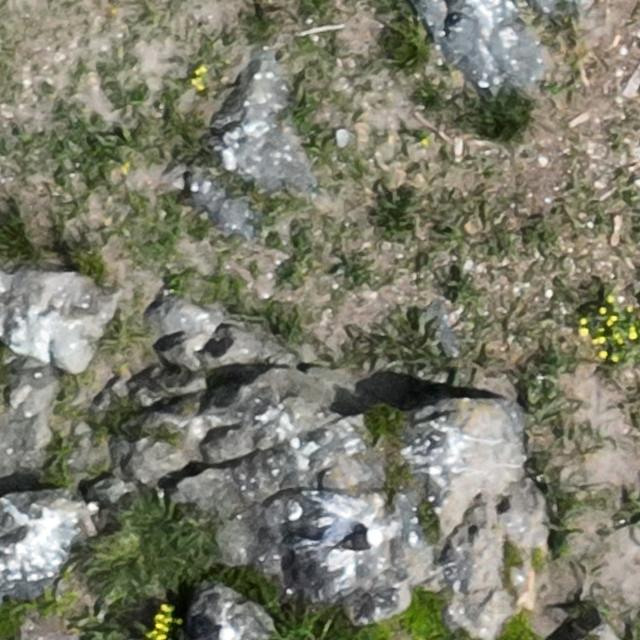umineko: (332, 529, 384, 553)
